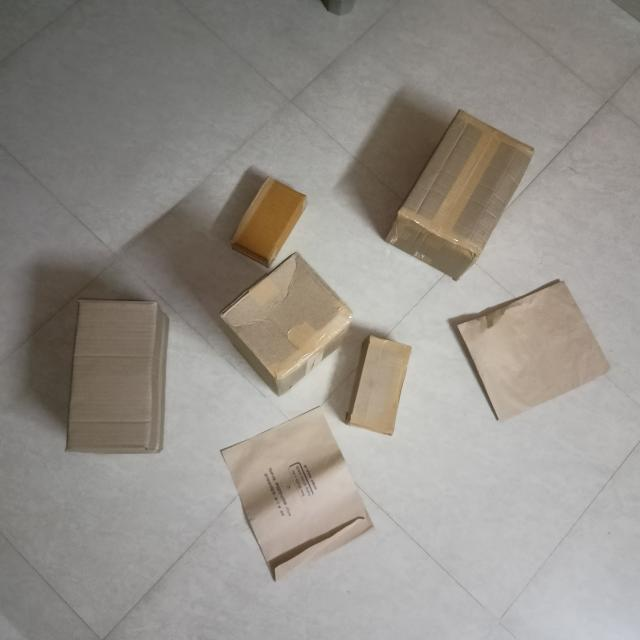box: (226, 409, 377, 580), (462, 275, 616, 423), (406, 111, 542, 254), (227, 249, 358, 376), (82, 302, 163, 459), (237, 172, 305, 259), (355, 340, 413, 436)
